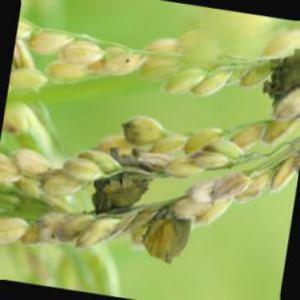False Smut: (131, 206, 194, 267), (99, 170, 146, 209), (267, 55, 300, 104)
